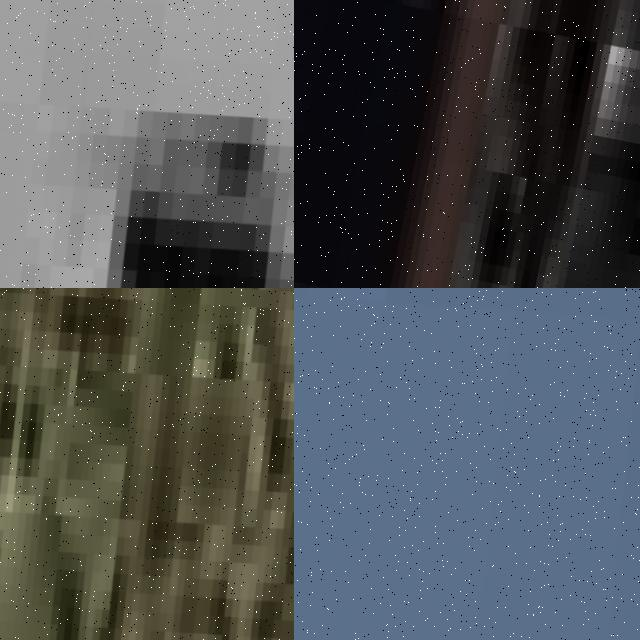drone: (294, 288, 640, 640), (0, 288, 294, 640), (0, 0, 294, 288)
